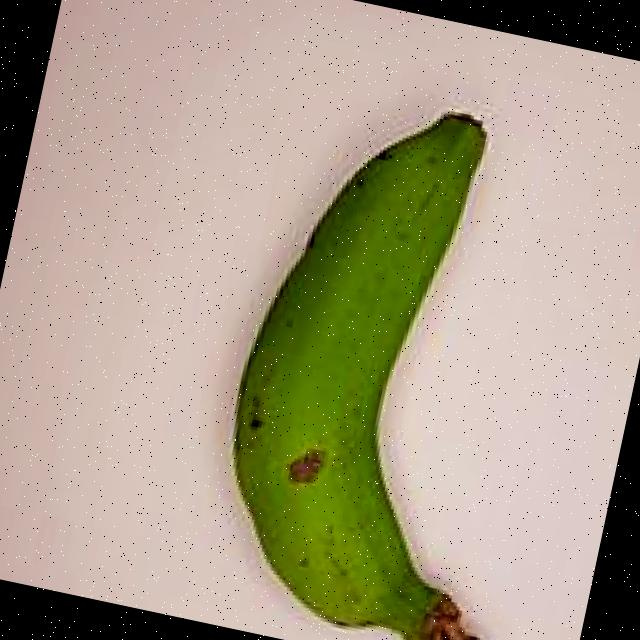Raw: (141, 41, 633, 640)
